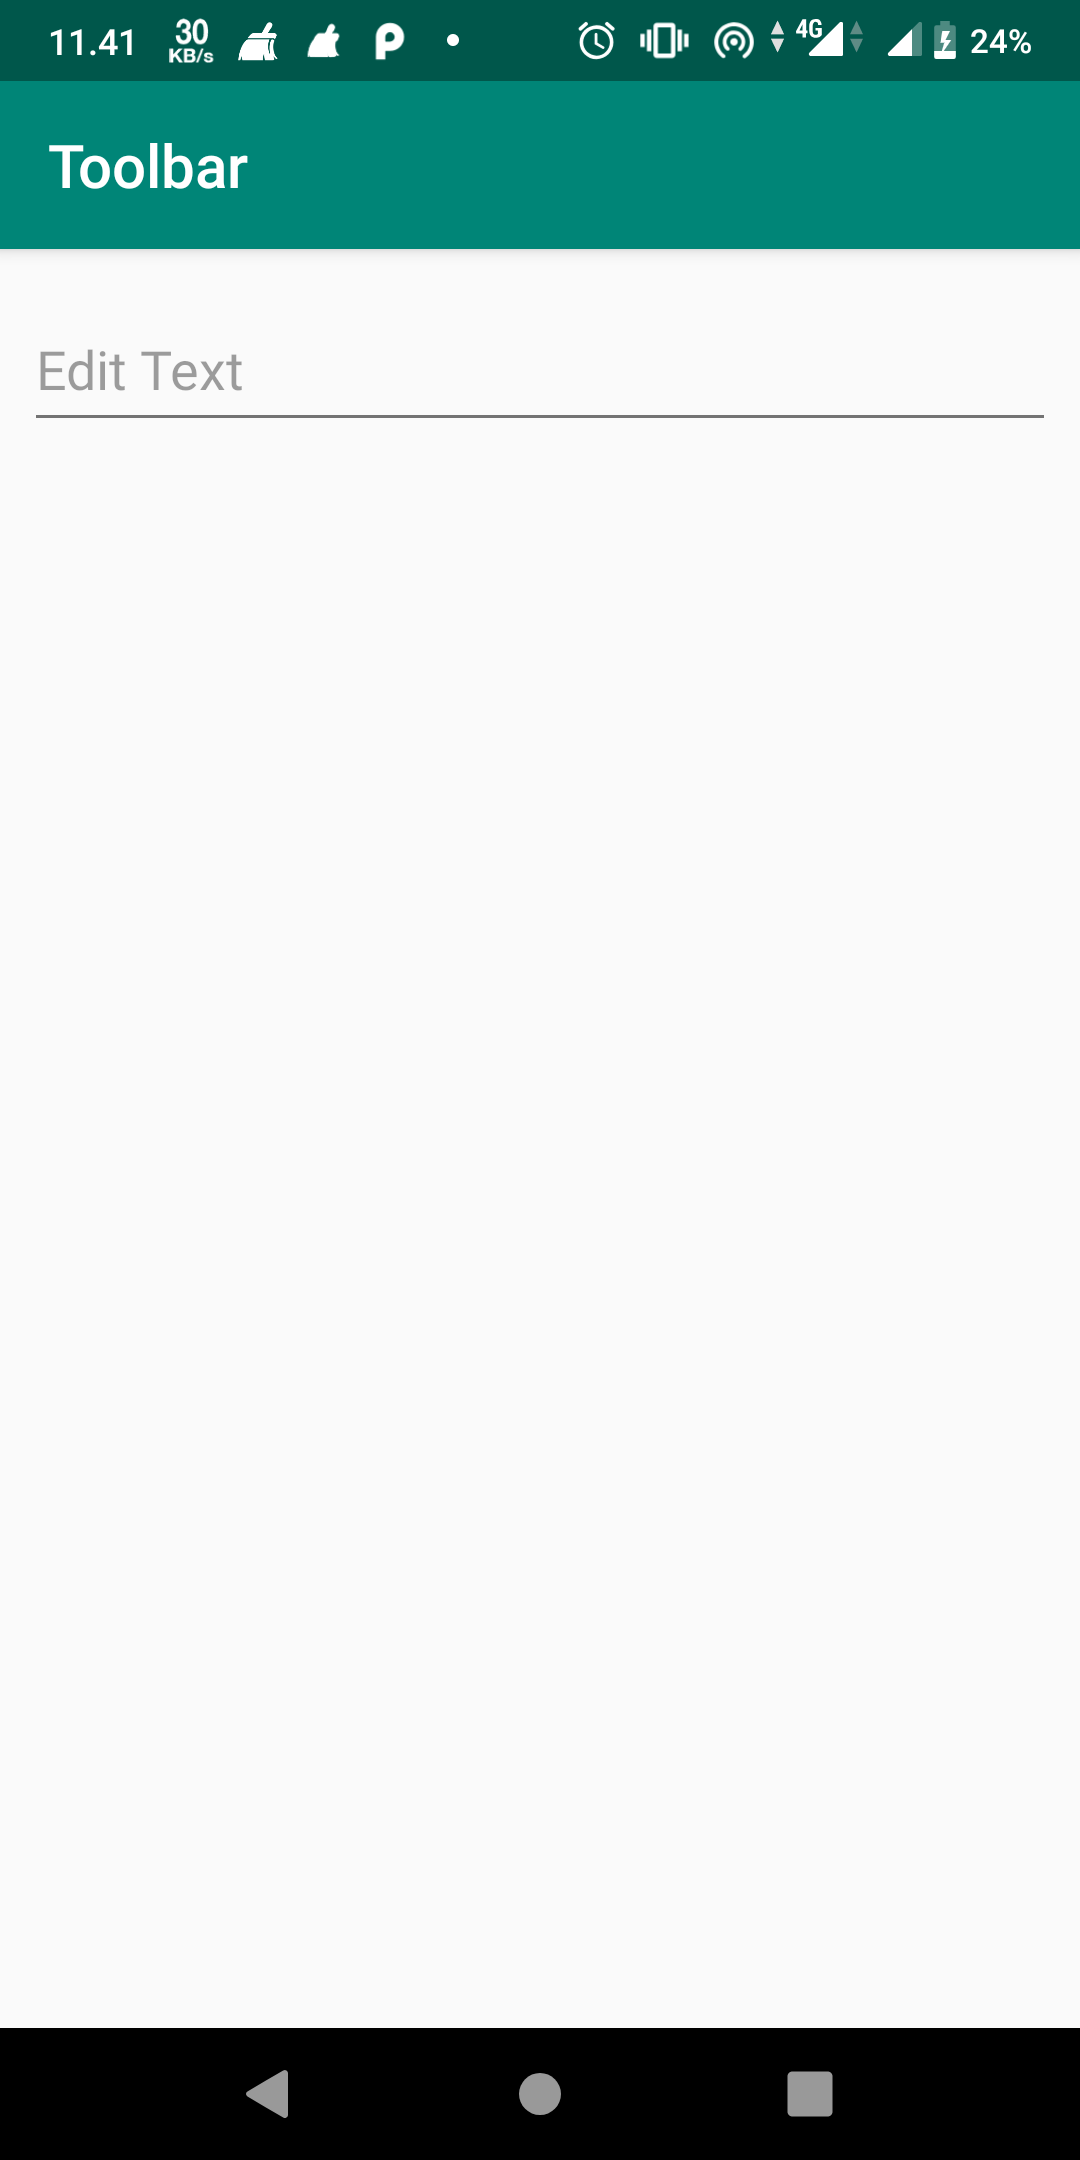editText: (15, 325, 1057, 438)
toolbar: (6, 83, 1080, 248)
